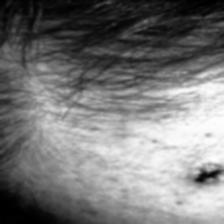Potentially Malignant Skin Tumors: (188, 160, 224, 184)
